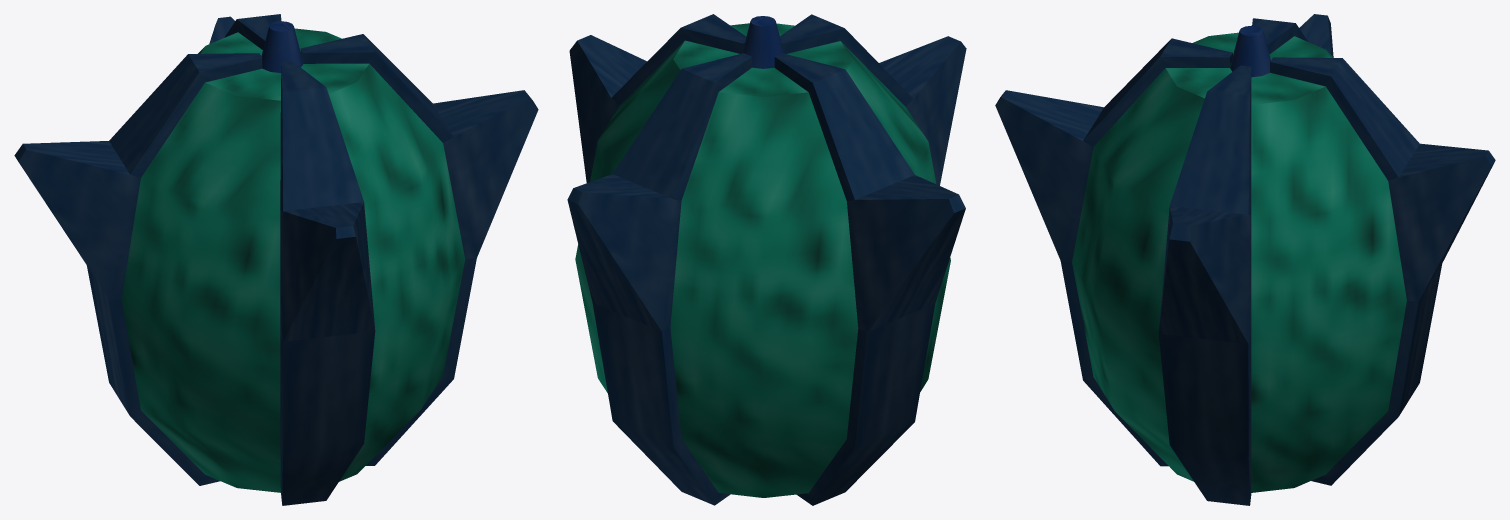
The model's file is MushroomTreeFruit.fbx.
The picture shows the model from 3 angles, left to right: view 1: azimuth 30°, elevation 25°; view 2: azimuth 150°, elevation 25°; view 3: azimuth 270°, elevation 25°; orthographic projection. The views are drawn at different scales.
Visible parts, largest first — view 1: MushroomTree_2; view 2: MushroomTree_2; view 3: MushroomTree_2.
Part boxes in pixels (x1=…): MushroomTree_2: x1=14, y1=14, x2=538, y2=505; MushroomTree_2: x1=567, y1=14, x2=966, y2=505; MushroomTree_2: x1=995, y1=14, x2=1495, y2=505.
Size of the model in its own units: 12.53 by 11.68 by 12.16.
1 material, 1 textured.
